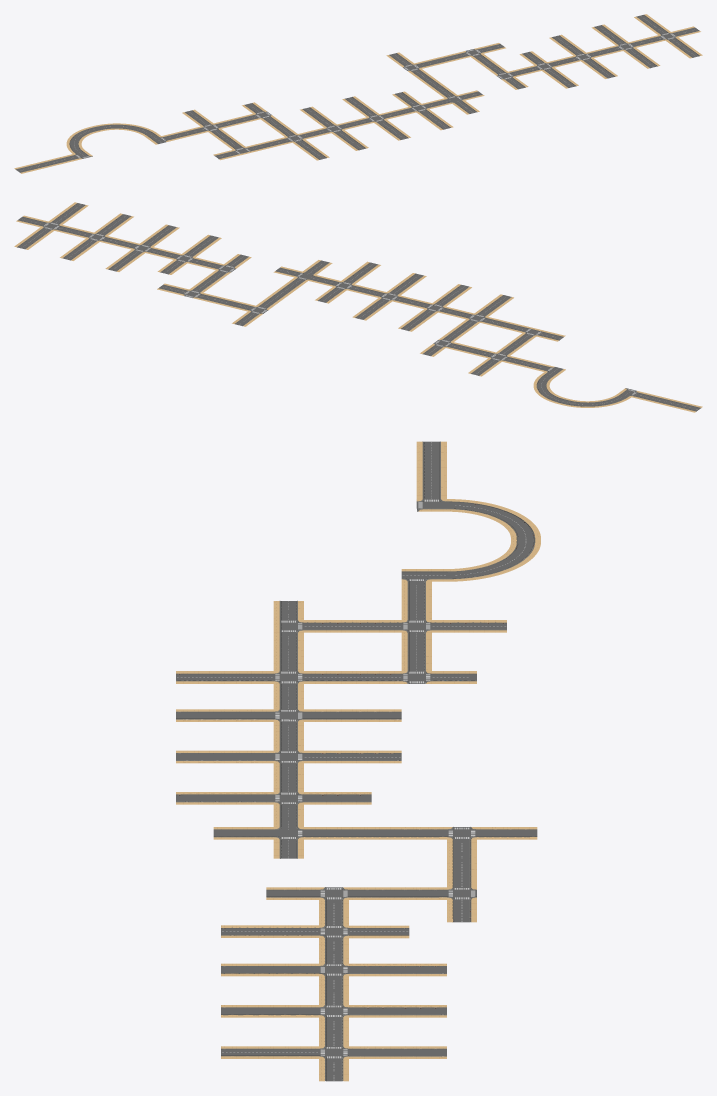
File: Level 10.fbx
3 renders of one model, top to bottom at view 1: azimuth 30°, elevation 25°; view 2: azimuth 150°, elevation 25°; view 3: azimuth 270°, elevation 25°, orthographic. The views are drawn at different scales.
Visible parts, largest first — view 1: SM_Env_Road_1765; view 2: SM_Env_Road_1765; view 3: SM_Env_Road_1765.
Part boxes in pixels (<box>): SM_Env_Road_1765: <box>14,14,702,173</box>; SM_Env_Road_1765: <box>14,202,702,412</box>; SM_Env_Road_1765: <box>176,441,540,1081</box>.
Bounding box in the file's own units: 1005 × 1.2 × 242.
